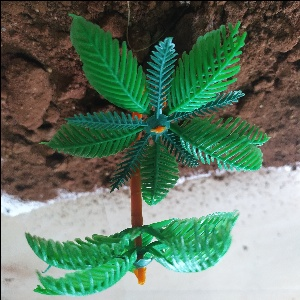plant: (30, 24, 274, 284)
